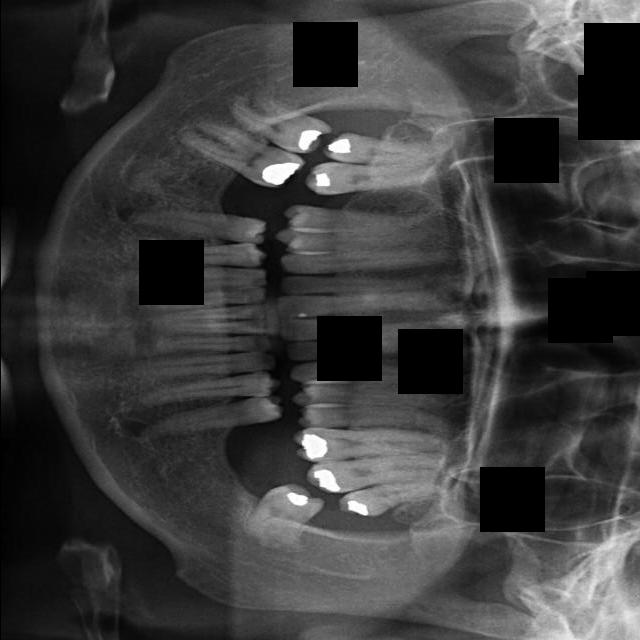3M ESPE Implant: (318, 128, 458, 173)
Amalgam filling: (300, 148, 450, 199)
Anthogyr Implant: (134, 391, 289, 449)
Bicon Implant: (119, 369, 284, 416)
BioHorizons Implant: (121, 349, 278, 384)
BioLife Implant: (152, 335, 275, 352)
Biomet 3i Implant: (164, 320, 267, 334)
Blue Sky Bio Implant: (152, 305, 267, 321)
Camlog Implant: (152, 286, 269, 312)
Caries: (282, 336, 434, 362)
Composite filling: (115, 267, 269, 288)
Cowellmedi Implant: (132, 240, 272, 268)
Crown: (114, 196, 270, 247)
Dentis Implant: (173, 114, 309, 201)
Dentium Implant: (250, 107, 252, 108)
Euroteknika Implant: (279, 203, 445, 225)
Filling: (271, 223, 437, 245)
Frontier Implant: (276, 245, 469, 275)
Hiossen Implant: (285, 361, 478, 389)
Implant: (274, 292, 441, 319)
Implant Direct: (277, 275, 432, 297)
Keystone Dental Implant: (277, 316, 443, 342)
MIS Implant: (290, 383, 459, 408)
Mandible: (293, 403, 459, 434)
Maxilla: (396, 443, 398, 444)
Megagen Implant: (301, 451, 447, 497)
Neodent Implant: (331, 467, 456, 527)
Neoss Implant: (233, 463, 333, 564)
